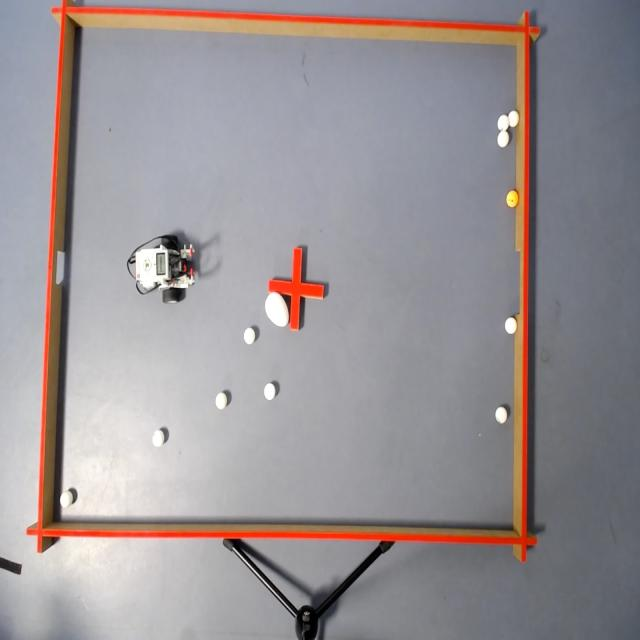boundaries: (23, 0, 78, 564), (23, 515, 546, 569), (52, 0, 541, 49), (508, 9, 542, 579)
cross: (267, 245, 324, 330)
egg: (265, 288, 290, 328)
large_goal: (502, 227, 538, 340)
orange_ball: (504, 187, 520, 212)
robot: (127, 230, 195, 300)
small_goal: (38, 230, 75, 303)
white_ball: (151, 428, 167, 450), (263, 380, 277, 403), (214, 391, 229, 412), (504, 315, 518, 337), (495, 405, 509, 425), (496, 114, 509, 134), (244, 325, 256, 346), (497, 130, 509, 150), (508, 110, 520, 128), (61, 490, 73, 507)
